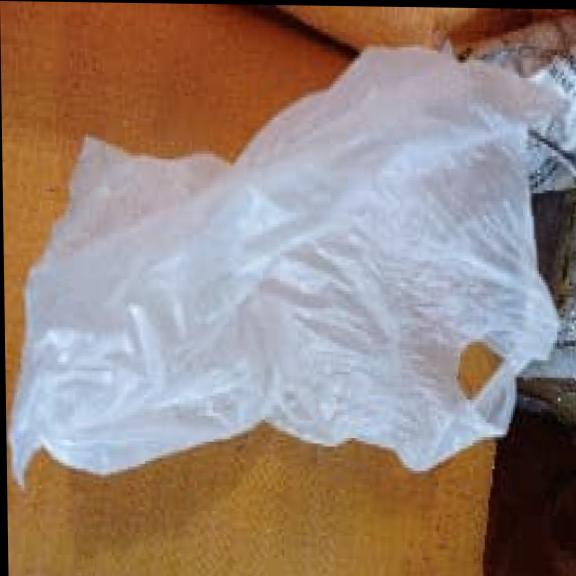Plastik: (11, 48, 567, 482)
